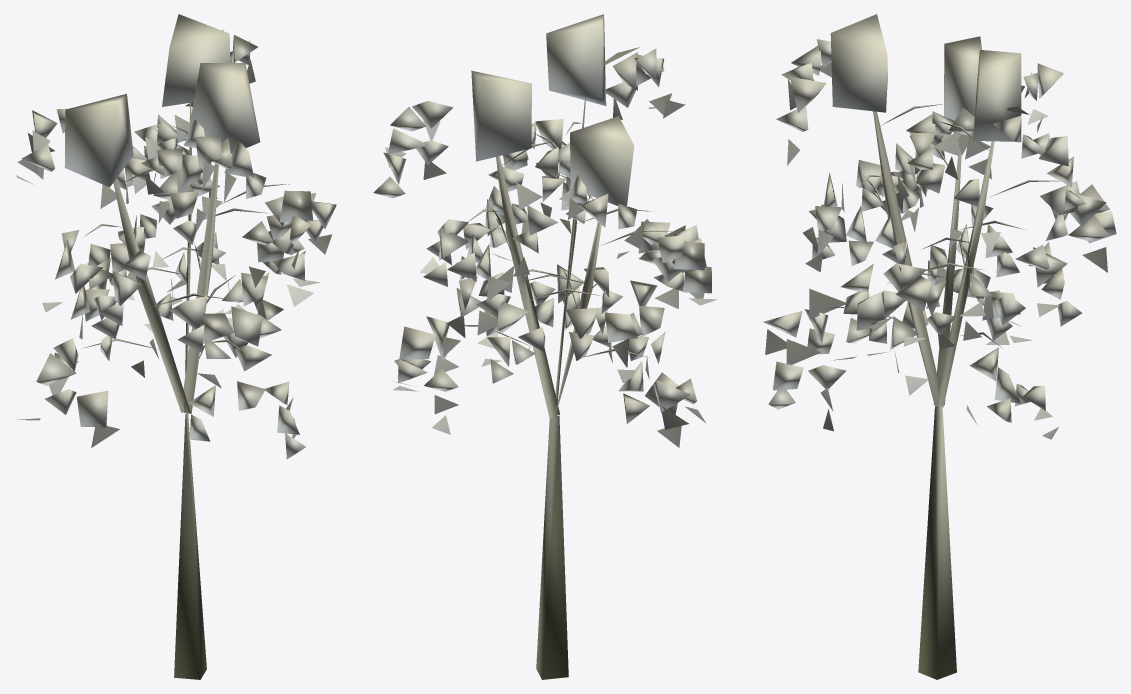
3 renders of one model, left to right at view 1: azimuth 30°, elevation 25°; view 2: azimuth 150°, elevation 25°; view 3: azimuth 270°, elevation 25°, orthographic. The views are drawn at different scales.
Visible parts, largest first — view 1: crown, trunk; view 2: crown, trunk; view 3: crown, trunk.
Boxes of the visible parts, <box> form: crown: <box>16,14,336,459</box>; trunk: <box>81,102,289,679</box>; crown: <box>373,14,717,447</box>; trunk: <box>447,47,671,679</box>; crown: <box>763,14,1116,439</box>; trunk: <box>822,104,1059,679</box>.
Bounding box in the file's own units: 6.9 × 14.5 × 7.42.
